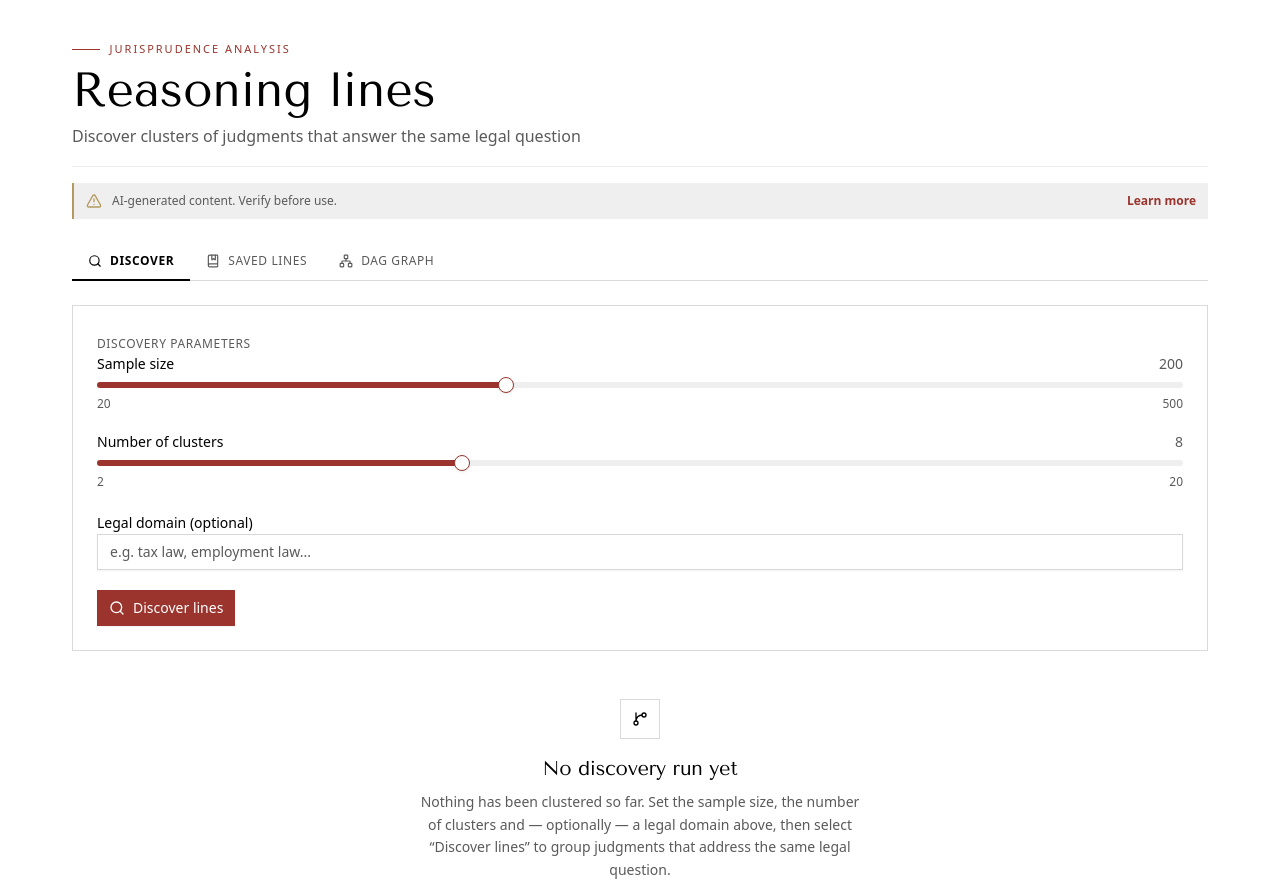
reasoning-lines admin-only controls › keeps discovery read-only and hides global mutations from a non-admin user
Step 1. Click the button "Discover lines" → [166, 608], box [97,590,235,626]
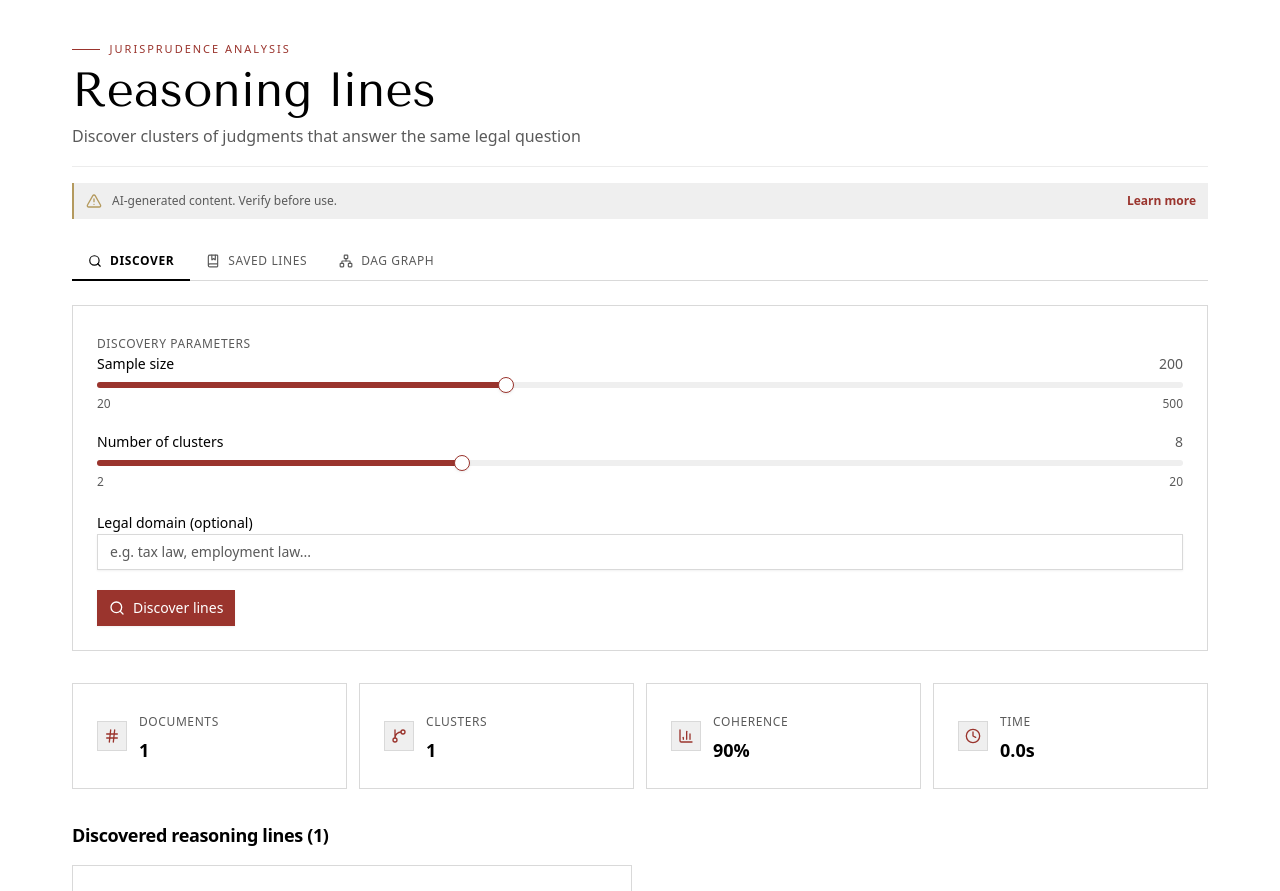
Step 2. Click the tab "DAG graph" → [387, 262], box [323,243,450,281]
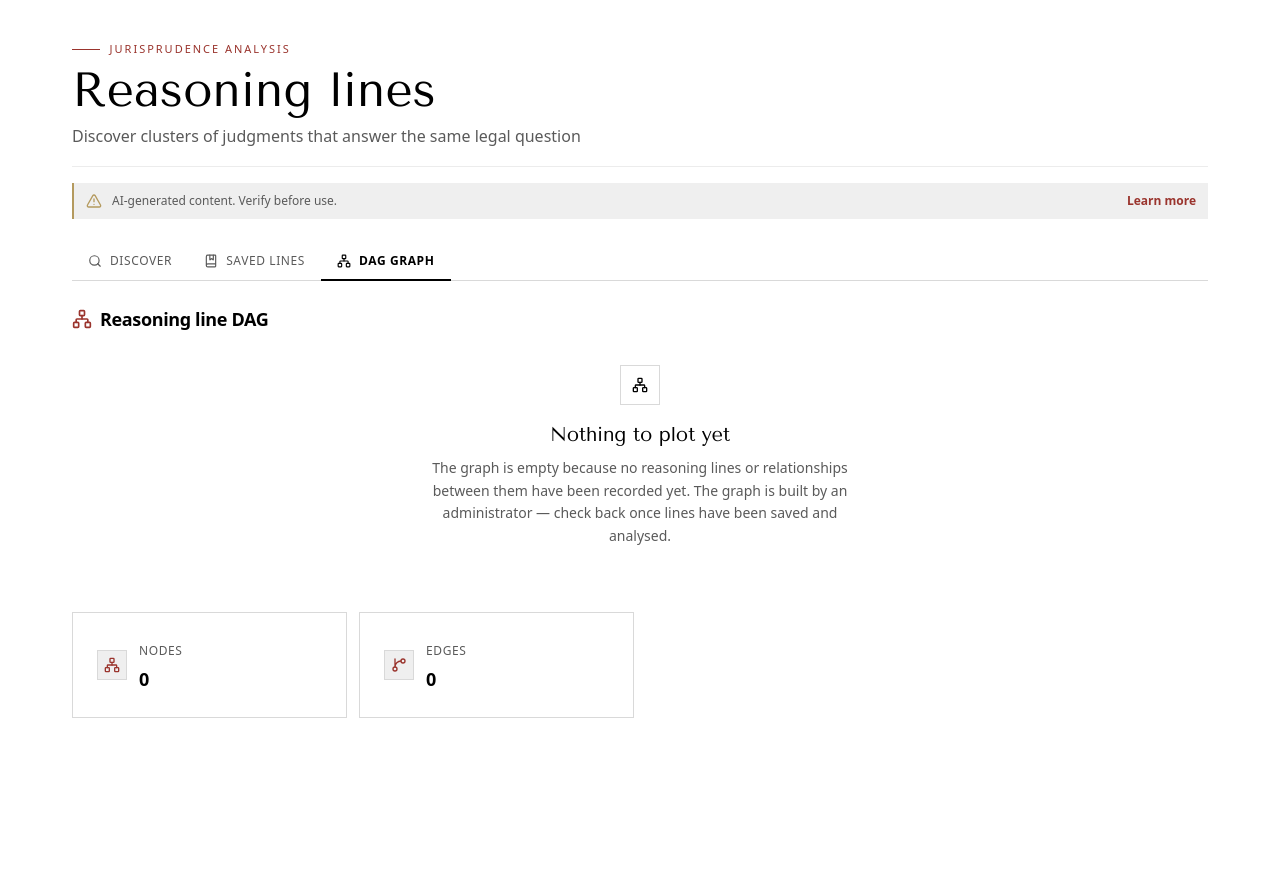
Expected: the text "The graph is built by an administrator" is shown, [432,458,848,545]
